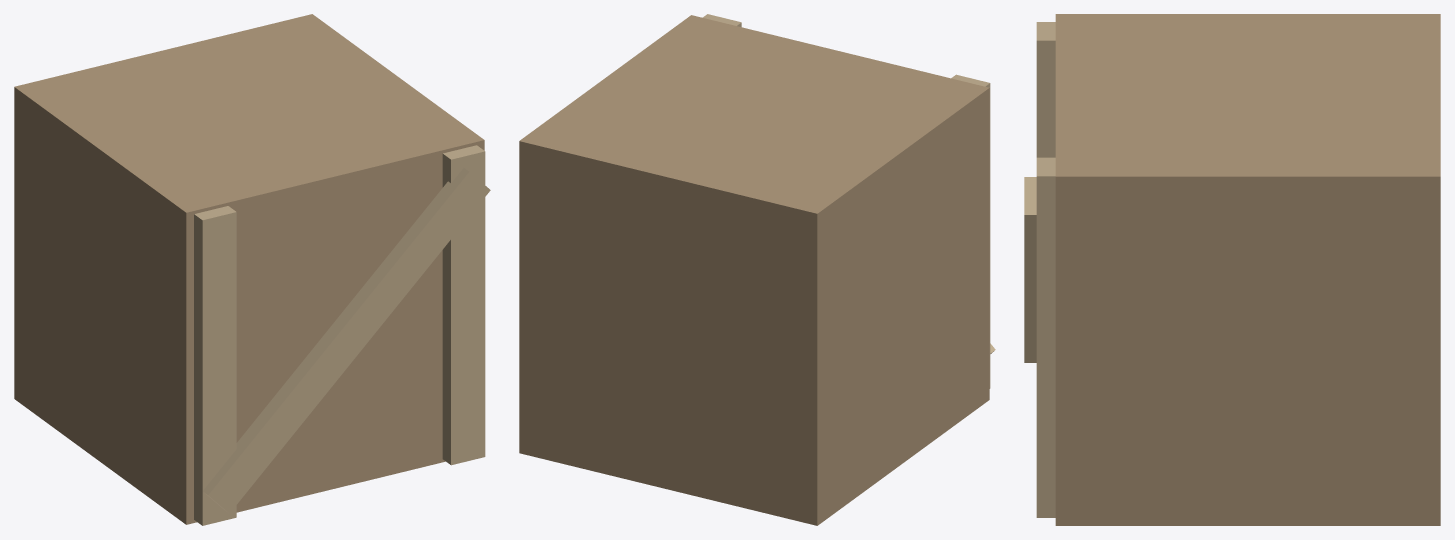
3 views of the same model, side by side, from view 1: azimuth 30°, elevation 25°; view 2: azimuth 150°, elevation 25°; view 3: azimuth 270°, elevation 25° (orthographic). The views are drawn at different scales.
Visible parts, largest first — view 1: P05; view 2: P05; view 3: P05.
Boxes of the visible parts, x1,y1,x2,y2 form: P05: (14,14,490,525); P05: (519,14,995,525); P05: (1024,14,1440,525).
Bounding box in the file's own units: 0.48 × 0.48 × 0.519.
